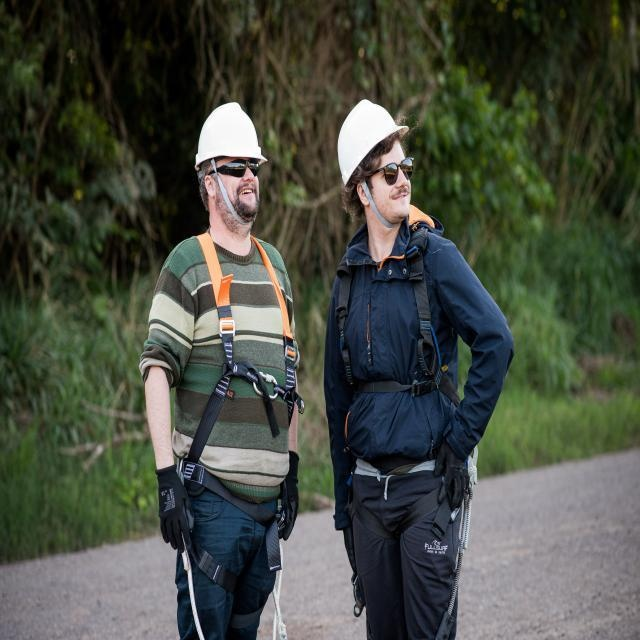Arnes_seguridad: (175, 223, 308, 602), (334, 219, 483, 551)
